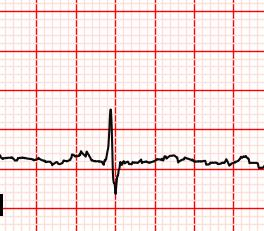ST Depression: (101, 155, 125, 198)
